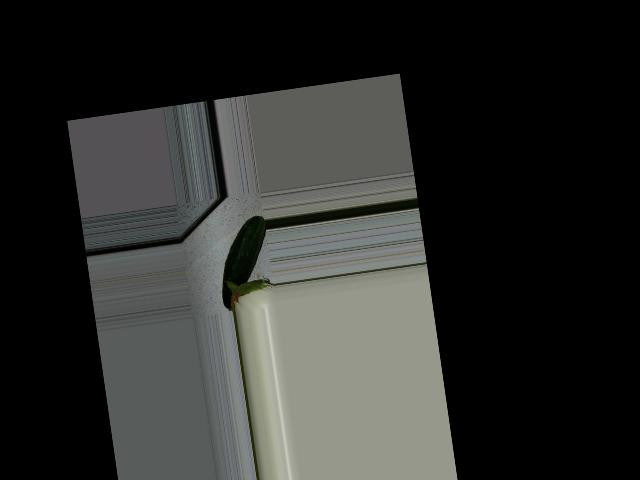cucumber: (212, 214, 277, 311)
